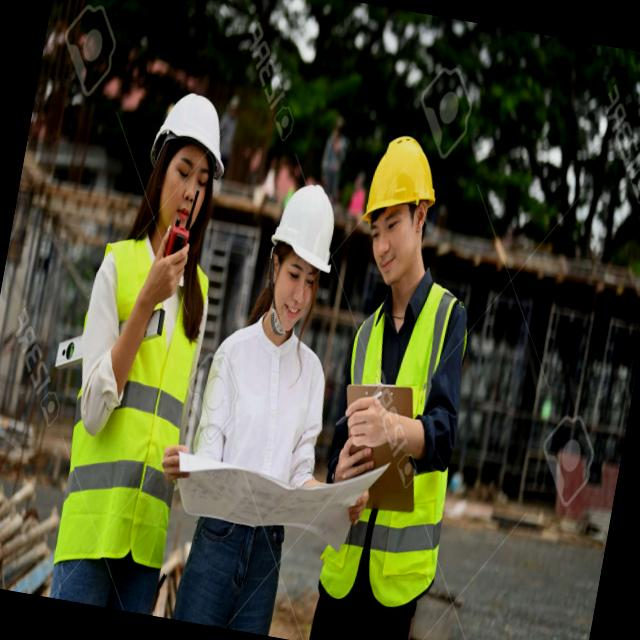helmet: (142, 75, 239, 162), (361, 126, 453, 216), (268, 182, 342, 257)
no-goggles: (364, 201, 406, 260), (274, 258, 321, 294)
no-vest: (195, 321, 332, 488), (165, 142, 219, 195)
vest: (305, 254, 487, 628), (56, 229, 200, 575)
